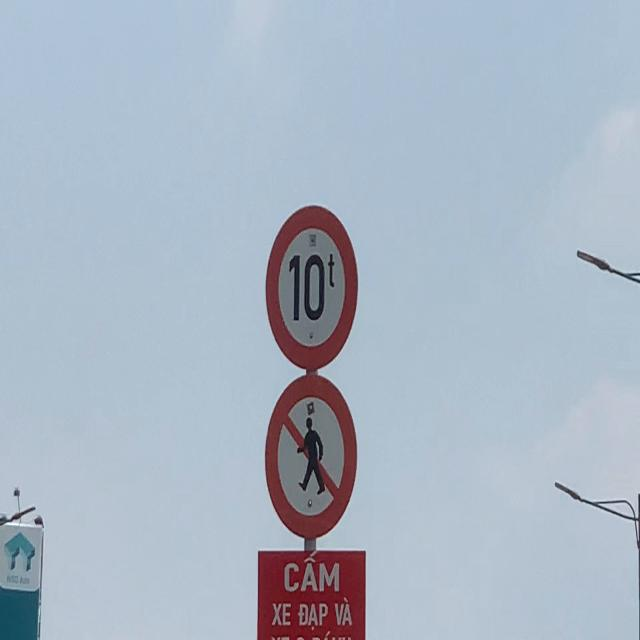Cam con lai: (266, 374, 362, 541)
Trong tai toi da: (265, 198, 364, 368)
